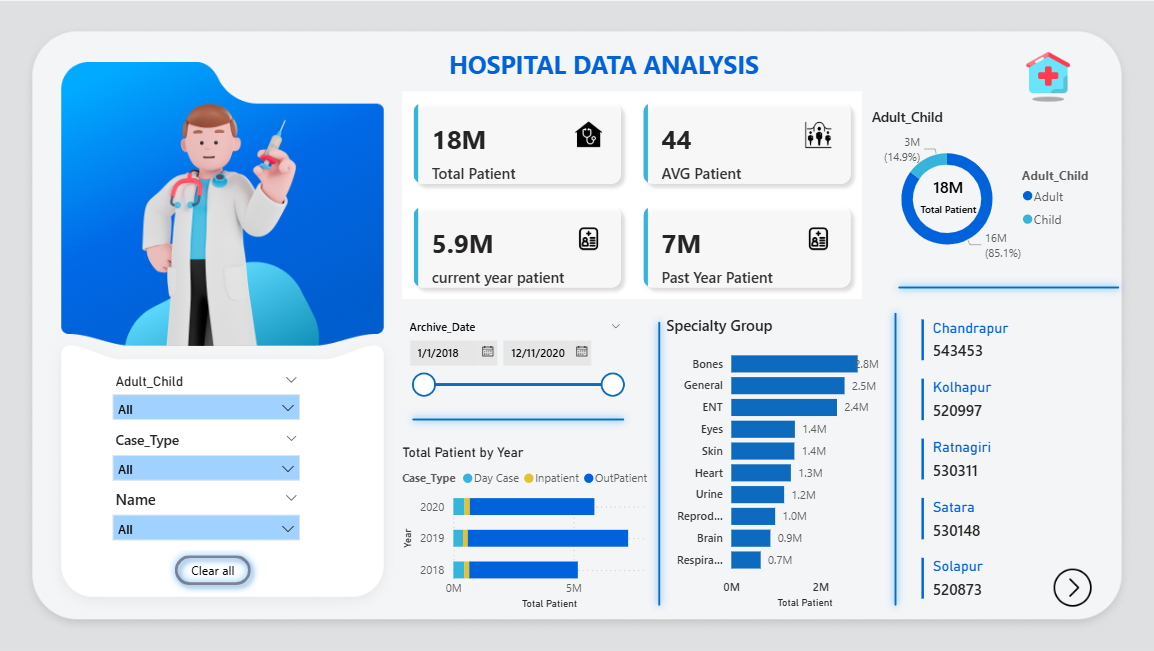

Layout of this report page (visuals, bound fields, positions):
{"tool":"powerbi","page":{"name":"Dashboard","canvas":[1280,720],"ordinal":0},"visuals":[{"type":"image","box":[10,0,1258.3,720],"z":0},{"type":"cardVisual","fields":{"Data":["measurs.Total Patient","measurs.AVG Patient","measurs.current year patient","measurs.Past Year Patient"]},"box":[445,101.7,506.7,235],"z":1000},{"type":"clusteredBarChart","title":" Specialty Group","fields":{"Category":["Mapping_Specialty.Specialty Group"],"Y":["measurs.Total Patient"]},"box":[730,348.3,248.3,321.7],"z":2000},{"type":"barChart","title":"Total Patient by Year ","fields":{"Category":["Hospital data.Archive_Date.Variation.Date Hierarchy.Year"],"Y":["measurs.Total Patient"],"Series":["Hospital data.Case_Type"]},"box":[445,488.3,281.7,181.7],"z":3000},{"type":"donutChart","title":"Adult_Child","fields":{"Y":["measurs.Total Patient"],"Category":["Hospital data.Adult_Child"]},"box":[951.7,125,250,176.7],"z":4000},{"type":"card","fields":{"Values":["measurs.Total Patient"]},"box":[960.2,160.3,158.7,116.6],"z":5000},{"type":"image","box":[103.3,101.7,285,285],"z":6000},{"type":"textbox","box":[350,55,636.7,70],"z":7000},{"type":"slicer","fields":{"Values":["Hospital data.Adult_Child"]},"box":[128.3,406.7,221.7,61.7],"z":8000},{"type":"slicer","fields":{"Values":["Hospital data.Case_Type"]},"box":[128.3,468.3,221.7,63.3],"z":9000},{"type":"actionButton","box":[196.7,598.3,100,50],"z":10000},{"type":"shape","box":[680.1,348.1,95.5,322.2],"z":11000},{"type":"shape","box":[453.4,437.2,244.5,48.6],"z":12000},{"type":"image","box":[1053.3,55,186.7,68.3],"z":13000},{"type":"slicer","fields":{"Values":["Hospital data.Archive_Date"]},"box":[445,348.3,253.3,95],"z":14000},{"type":"slicer","fields":{"Values":["Dis Name MH.Name"]},"box":[128.3,531.7,221.7,61.7],"z":15000},{"type":"multiRowCard","title":"Region Name","fields":{"Values":["Dis Name MH.Name","measurs.Total Patient"]},"box":[1005,348.3,228.3,355],"z":16000},{"type":"shape","box":[978,301.2,254.2,35.6],"z":17000},{"type":"shape","box":[960.2,338.4,45.3,331.9],"z":18000},{"type":"image","box":[1146.4,615.3,55.1,55.1],"z":18001}]}

Visuals, with their boxes in screenshot pixels (x1, y1, x2, y2), scaled from the page's 1280x720 canvas onto the 1154x651 screenshot:
image: (left=9, top=0, right=1143, bottom=650)
cardVisual - measurs.Total Patient x measurs.AVG Patient: (left=401, top=92, right=858, bottom=304)
" Specialty Group" clusteredBarChart: (left=658, top=315, right=882, bottom=606)
"Total Patient by Year " barChart: (left=401, top=442, right=655, bottom=606)
"Adult_Child" donutChart: (left=858, top=113, right=1083, bottom=273)
card - measurs.Total Patient: (left=866, top=145, right=1009, bottom=250)
image: (left=93, top=92, right=350, bottom=350)
textbox: (left=316, top=50, right=890, bottom=113)
slicer - Hospital data.Adult_Child: (left=116, top=368, right=316, bottom=424)
slicer - Hospital data.Case_Type: (left=116, top=423, right=316, bottom=481)
actionButton: (left=177, top=541, right=267, bottom=586)
shape: (left=613, top=315, right=699, bottom=606)
shape: (left=409, top=395, right=629, bottom=439)
image: (left=950, top=50, right=1118, bottom=111)
slicer - Hospital data.Archive_Date: (left=401, top=315, right=630, bottom=401)
slicer - Dis Name MH.Name: (left=116, top=481, right=316, bottom=537)
"Region Name" multiRowCard: (left=906, top=315, right=1112, bottom=636)
shape: (left=882, top=272, right=1111, bottom=305)
shape: (left=866, top=306, right=907, bottom=606)
image: (left=1034, top=556, right=1083, bottom=606)
